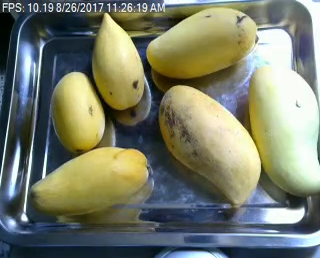Mango: (158, 83, 261, 206), (247, 68, 320, 195), (31, 147, 150, 219), (147, 6, 256, 78), (90, 11, 146, 108), (49, 72, 106, 151)
